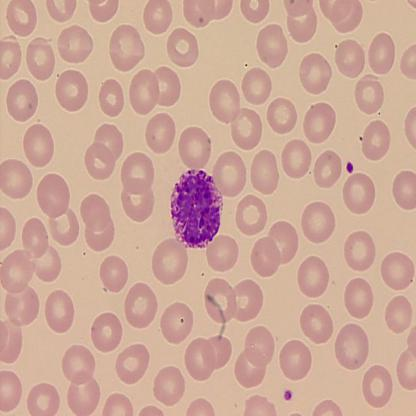Basophil: (166, 164, 226, 256)
